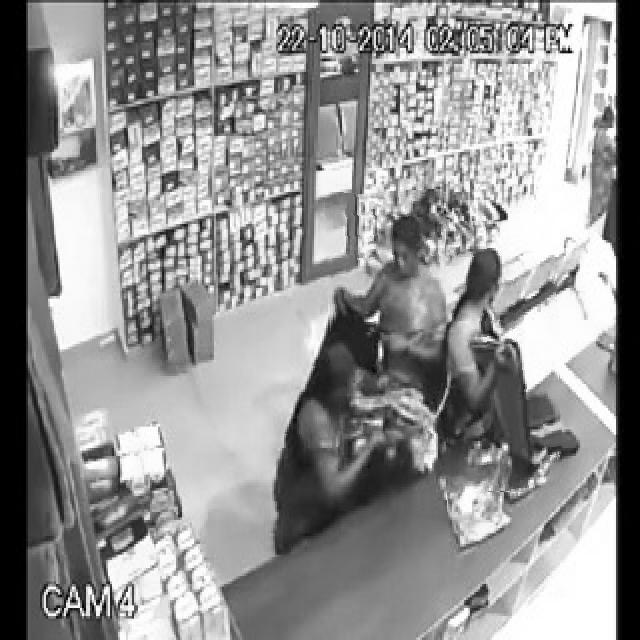Normal: (264, 332, 447, 557), (446, 219, 561, 492), (327, 191, 452, 429)
